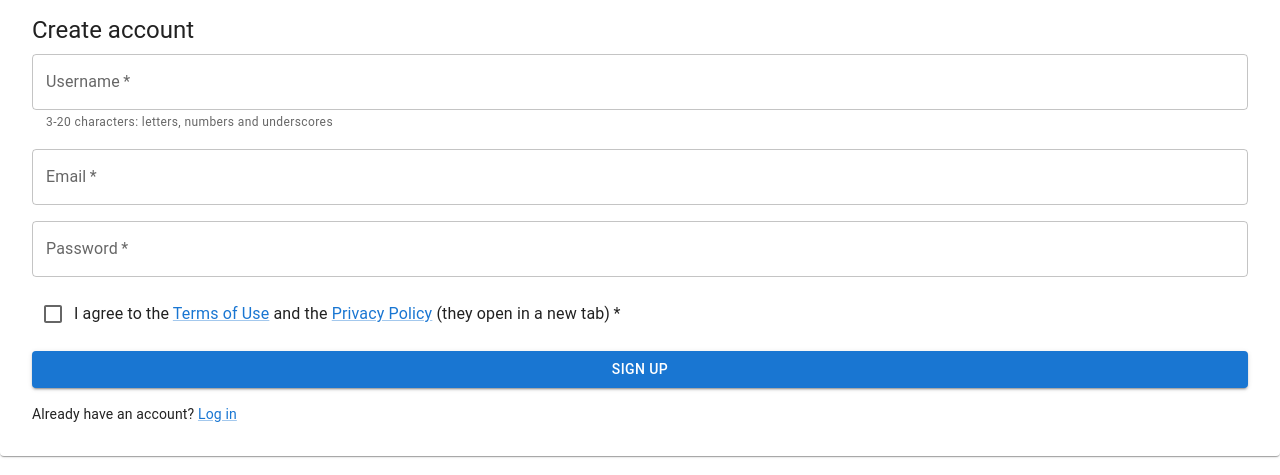
Scenario: Register › when the project requires email confirmation (sign up gives no session) › asks the user to check their email instead of going home
In the field labelled "Username *": (640, 82) [32,54,1248,110], type "valid_name"
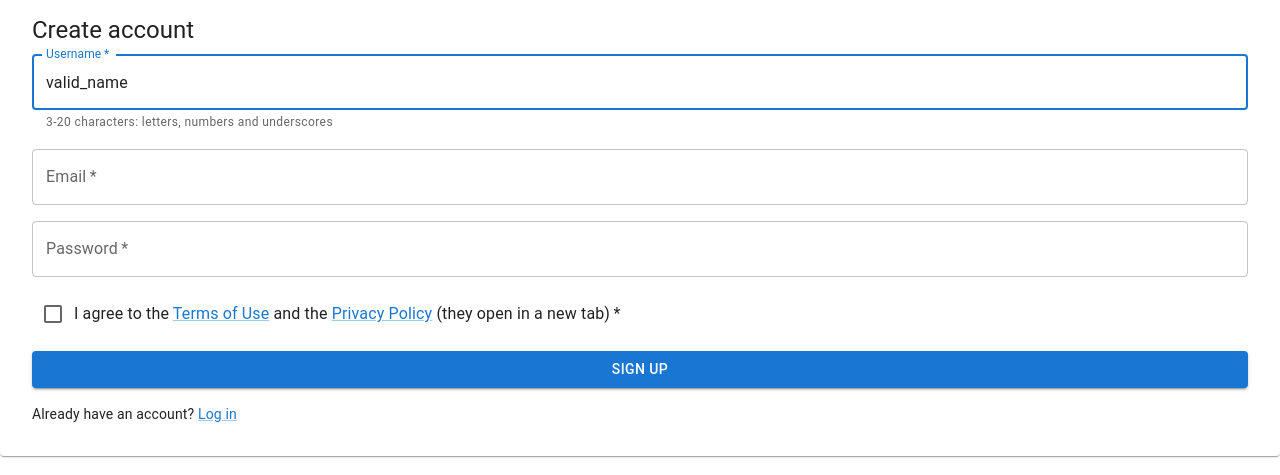
In the field labelled "Email *": (640, 177) [32,149,1248,205], type "confirm@example.test"
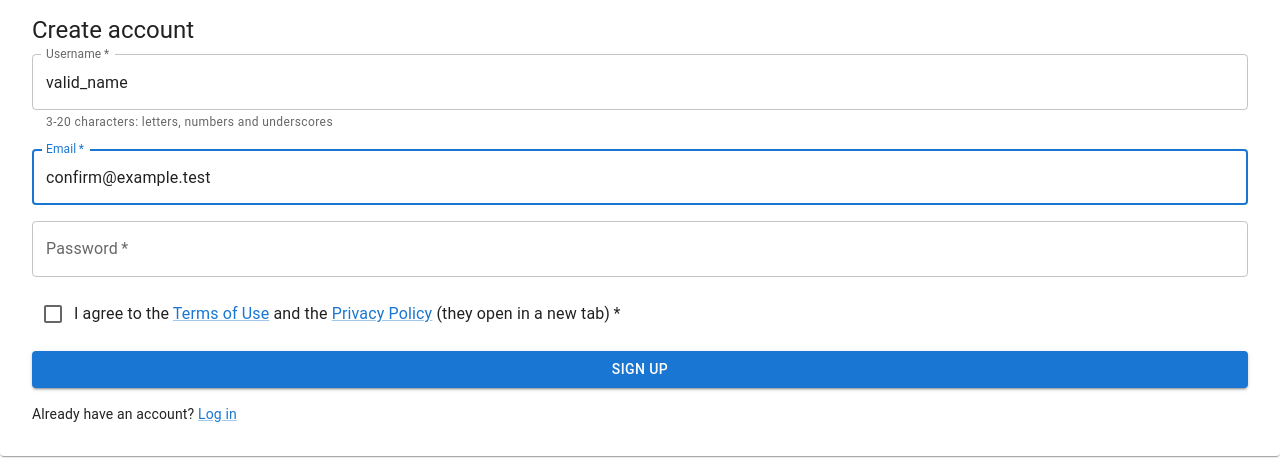
In the password field labelled "Password *": (640, 249) [32,221,1248,277], type "secret123"
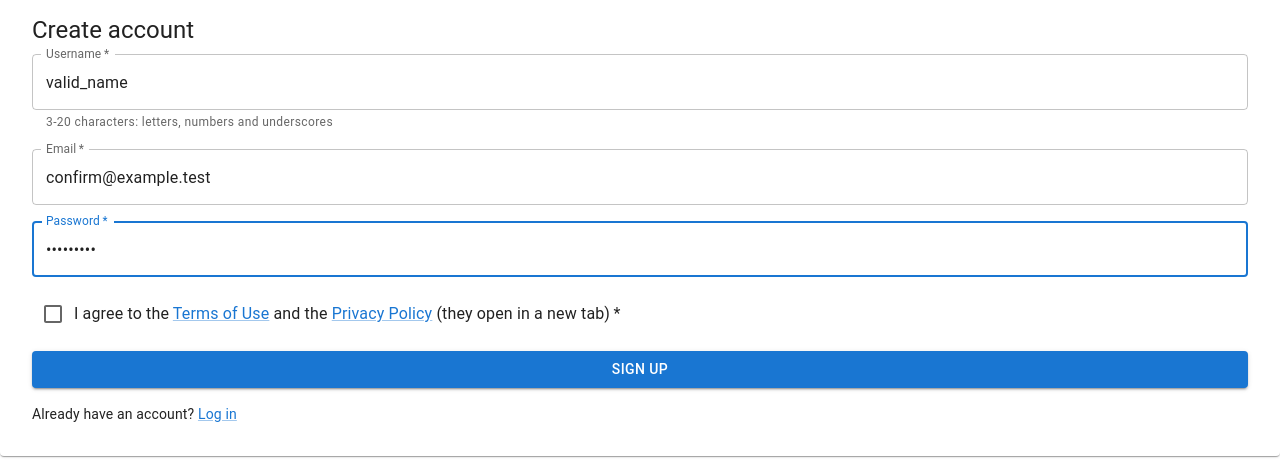
Click the checkbox labelled "I agree to the Terms of Use and the Privacy Policy": (331, 314) [41,302,621,326]
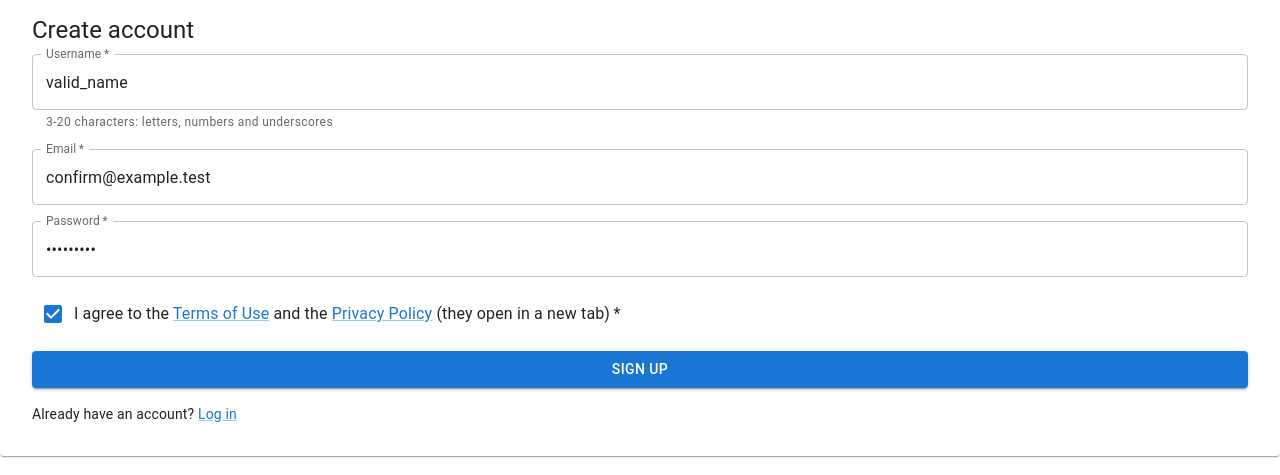
Click the button "Sign up": (640, 370) [32,351,1248,388]
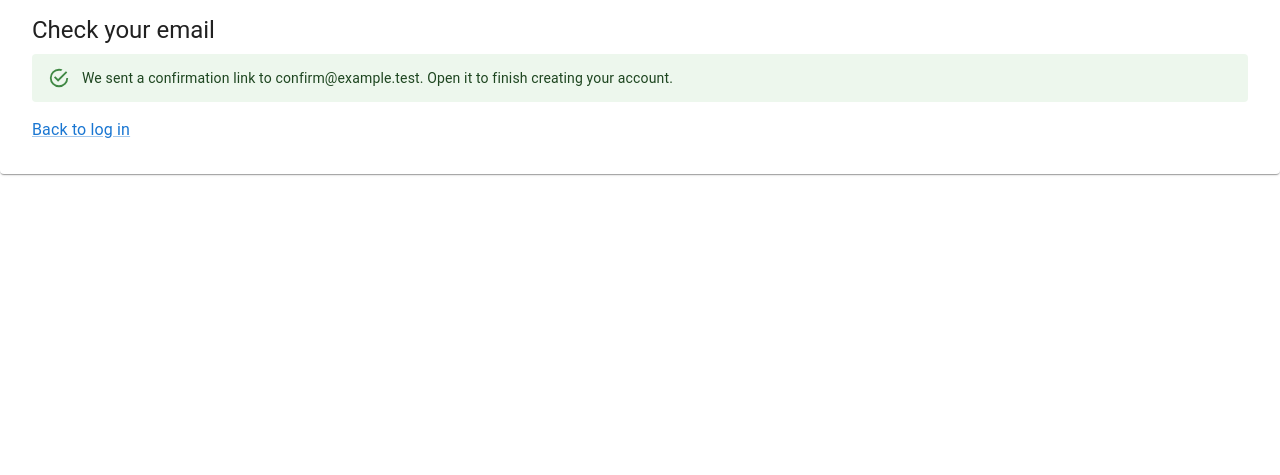
expect the heading "Check your email" is shown: met, box [32,16,215,44]
expect the text "confirmation link to confirm@example.test" is shown: met, box [82,70,673,86]
